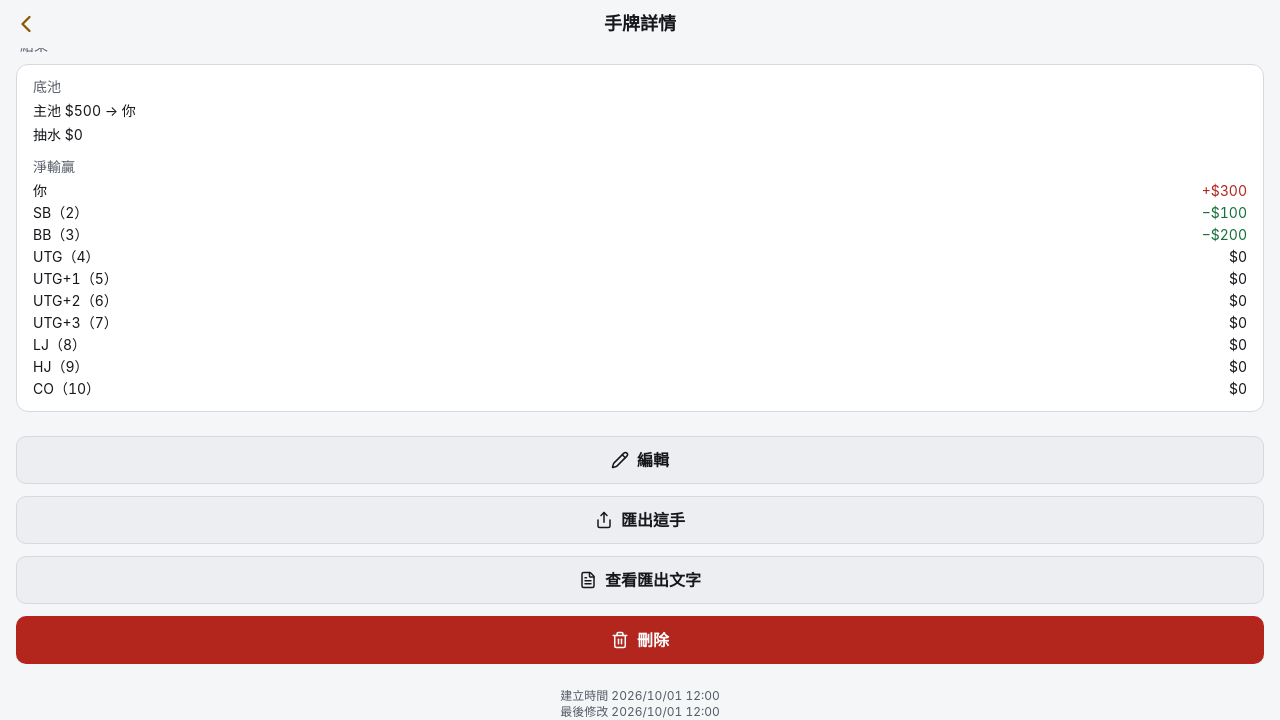
Test case: 6.2 手牌詳情：匯出這手、查看匯出文字 › 匯出這手：開啟「匯出手牌」sheet，不符合 GTO Wizard 格式時同樣顯示提示
The image size is (1280, 720).
(page scrolled)
Click the button "匯出這手".
click(640, 520)  # box [16, 496, 1264, 544]
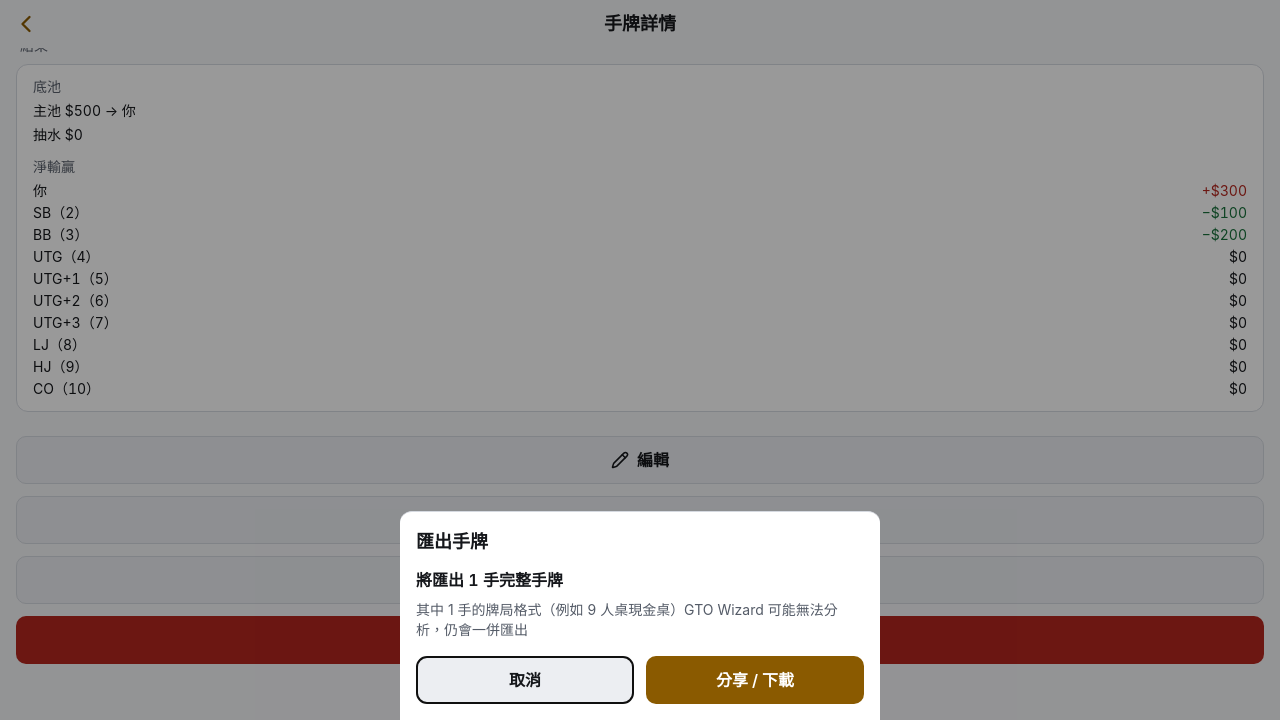
Result: the text with test id "export-count" reads "將匯出 1 手完整手牌" at [416, 570, 563, 590]
Result: the text with test id "export-gto-hint" shows "其中 1 手的牌局格式" at [416, 601, 838, 638]
